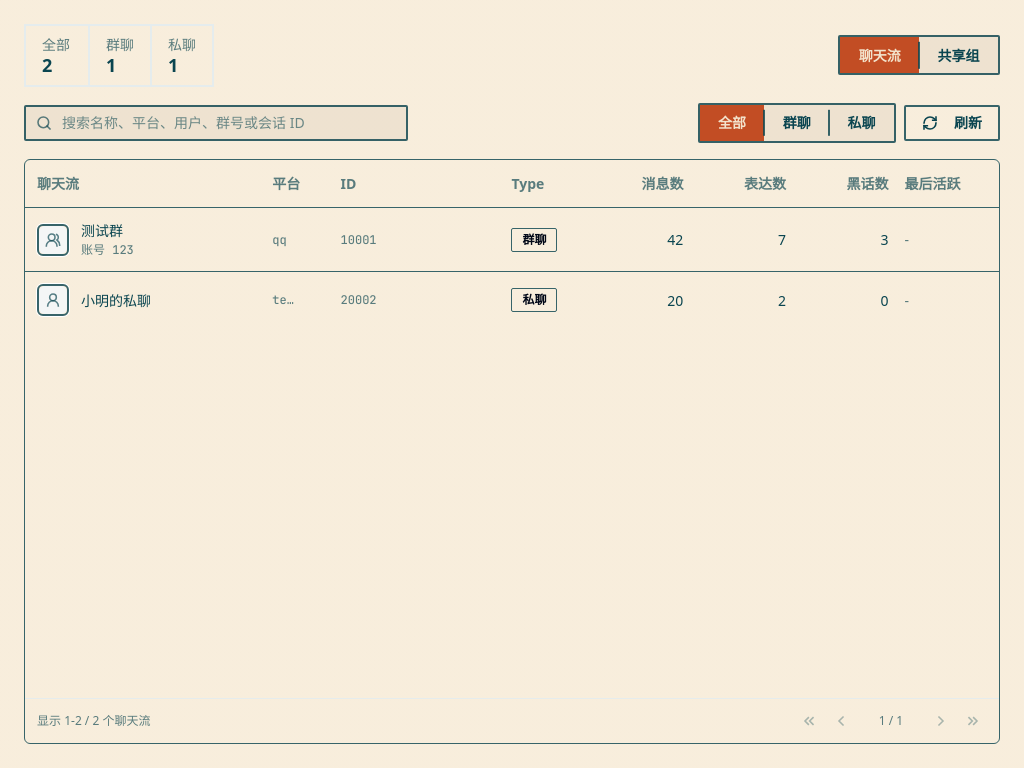
Scenario: ChatManagementPage 详情弹窗 › 点击行打开详情：渲染基础信息、适配器、频率规则栈与 Prompt
Click the button with aria-label "查看 测试群 · 账号 123 详情": [512, 240] box x1=25 y1=208 x2=999 y2=272
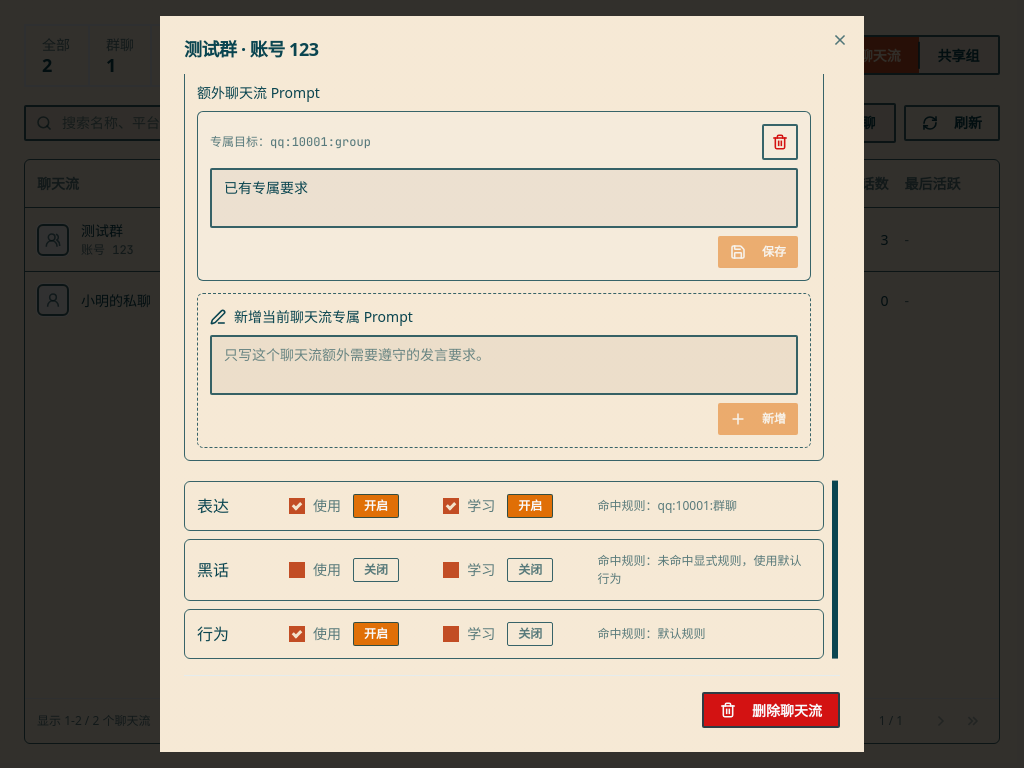
Expected: the text box showing "已有专属要求" is shown, x1=210 y1=168 x2=798 y2=228
Expected: the text "qq:10001:群聊" is shown, x1=658 y1=497 x2=737 y2=514
Expected: the text "未命中显式规则，使用默认行为" is shown, x1=598 y1=552 x2=802 y2=587
